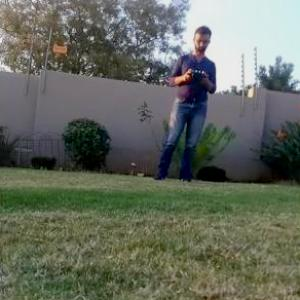follow: (146, 16, 219, 185)
